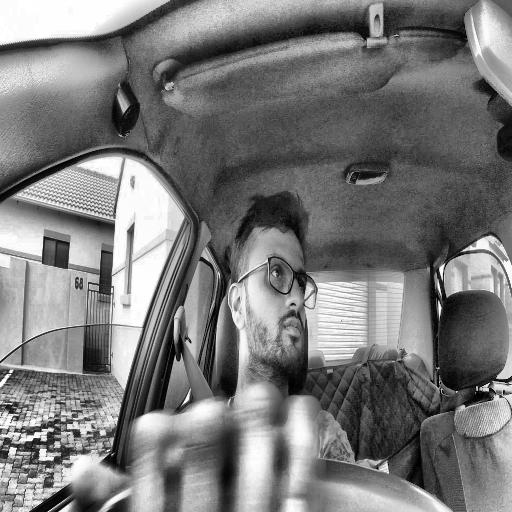awake: (227, 190, 318, 377)
